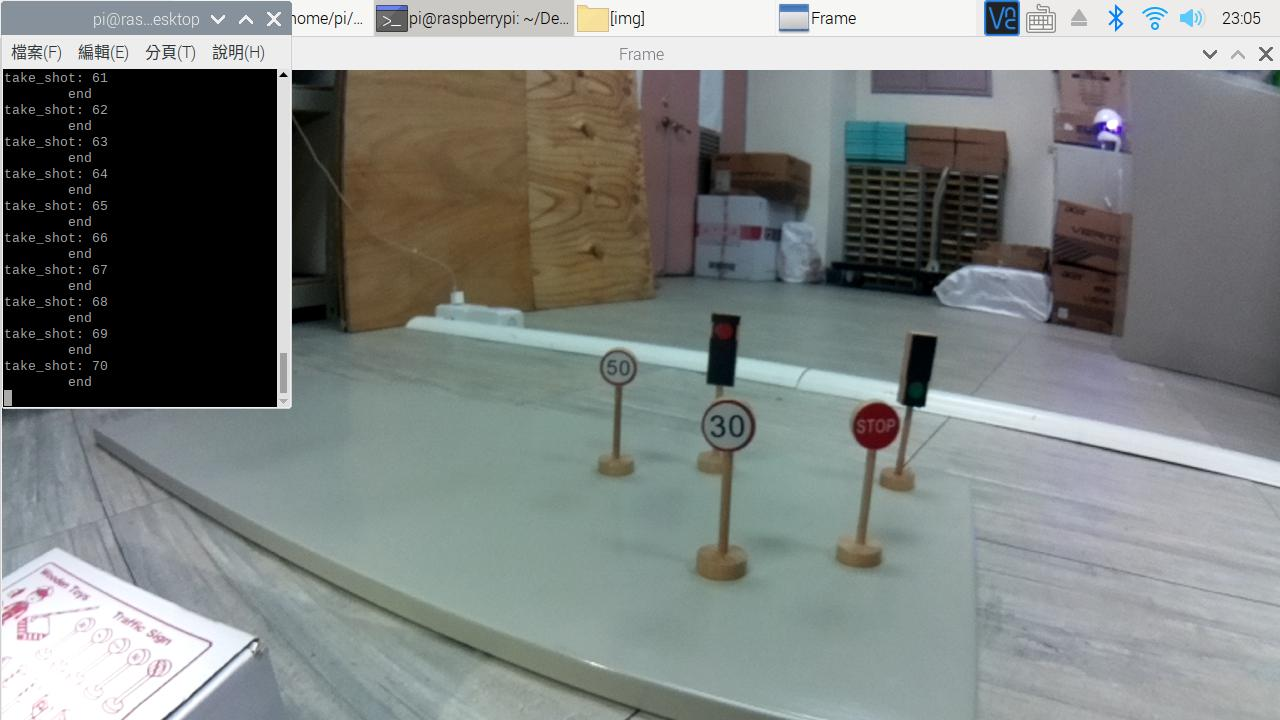Green: (893, 329, 941, 416)
Red: (704, 307, 753, 394)
Speed30: (700, 399, 760, 457)
Speed50: (595, 350, 638, 391)
Stop: (842, 400, 903, 456)
